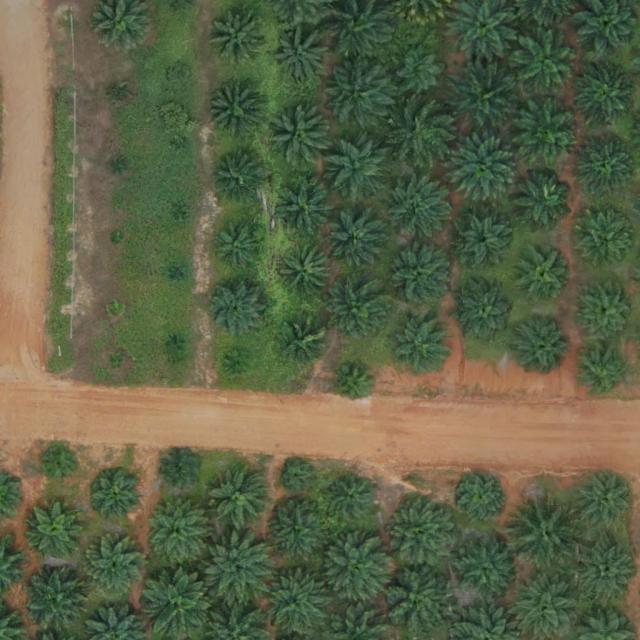Healthy: (384, 493, 462, 572), (509, 494, 587, 573), (512, 30, 582, 101), (446, 63, 517, 133), (448, 138, 518, 209), (326, 57, 396, 128), (202, 274, 272, 345), (22, 566, 92, 637), (202, 534, 273, 604), (321, 535, 391, 606), (325, 138, 388, 201), (577, 280, 640, 343), (209, 468, 272, 531), (574, 470, 637, 533), (575, 66, 637, 129), (576, 134, 638, 197), (519, 99, 581, 162), (512, 169, 574, 232), (391, 102, 453, 165), (269, 106, 331, 169), (274, 176, 336, 239), (328, 280, 390, 343), (387, 246, 449, 309), (390, 314, 452, 377), (456, 282, 518, 345), (514, 314, 576, 377), (82, 537, 144, 600), (147, 500, 209, 563), (265, 501, 327, 564), (455, 538, 518, 600), (387, 178, 449, 240), (577, 543, 639, 605), (579, 216, 634, 271), (454, 215, 509, 270), (212, 9, 267, 64), (212, 151, 267, 206), (280, 246, 335, 301), (518, 247, 573, 302), (577, 345, 632, 400), (29, 503, 84, 558), (91, 471, 146, 526), (330, 216, 384, 271), (275, 29, 329, 84), (208, 85, 262, 140), (460, 473, 507, 521), (397, 47, 444, 94), (284, 320, 331, 367), (329, 476, 376, 523)
Small: (214, 219, 269, 274), (333, 365, 373, 405), (42, 447, 81, 487), (160, 452, 200, 491), (283, 463, 314, 494), (169, 66, 193, 90), (227, 350, 251, 374), (171, 210, 187, 226), (107, 302, 123, 318), (112, 88, 128, 103), (112, 159, 128, 174), (110, 232, 125, 248), (109, 355, 125, 370), (172, 266, 187, 282), (167, 335, 183, 350), (175, 138, 190, 153)
